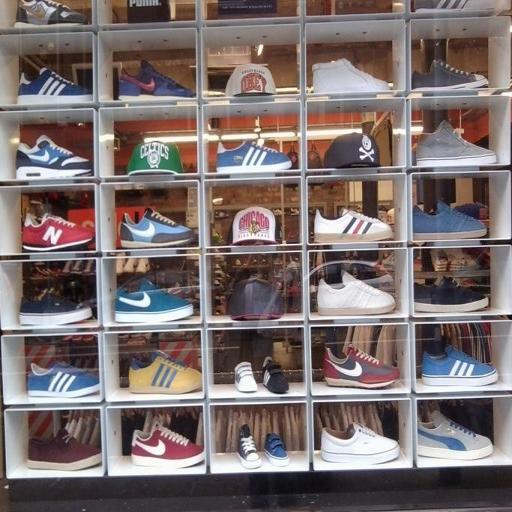shoe: (416, 120, 496, 167), (418, 410, 492, 460), (316, 271, 395, 316), (16, 134, 93, 180), (115, 278, 193, 323), (131, 422, 205, 469), (323, 344, 400, 389), (321, 422, 399, 464), (27, 428, 102, 471), (128, 351, 202, 394), (421, 345, 498, 386), (120, 207, 194, 248), (119, 60, 194, 100), (412, 200, 486, 240), (17, 67, 93, 105), (312, 58, 389, 94), (314, 208, 393, 243), (22, 213, 94, 251), (413, 277, 489, 313), (27, 363, 100, 398), (19, 291, 92, 326), (216, 141, 292, 173), (412, 59, 488, 91), (14, 0, 88, 28), (430, 248, 488, 272), (237, 424, 262, 469), (414, 0, 494, 13), (263, 356, 289, 394), (264, 433, 289, 467), (235, 361, 258, 393), (454, 202, 489, 220), (135, 258, 150, 274), (70, 260, 84, 275), (123, 258, 136, 273), (115, 258, 126, 275)
